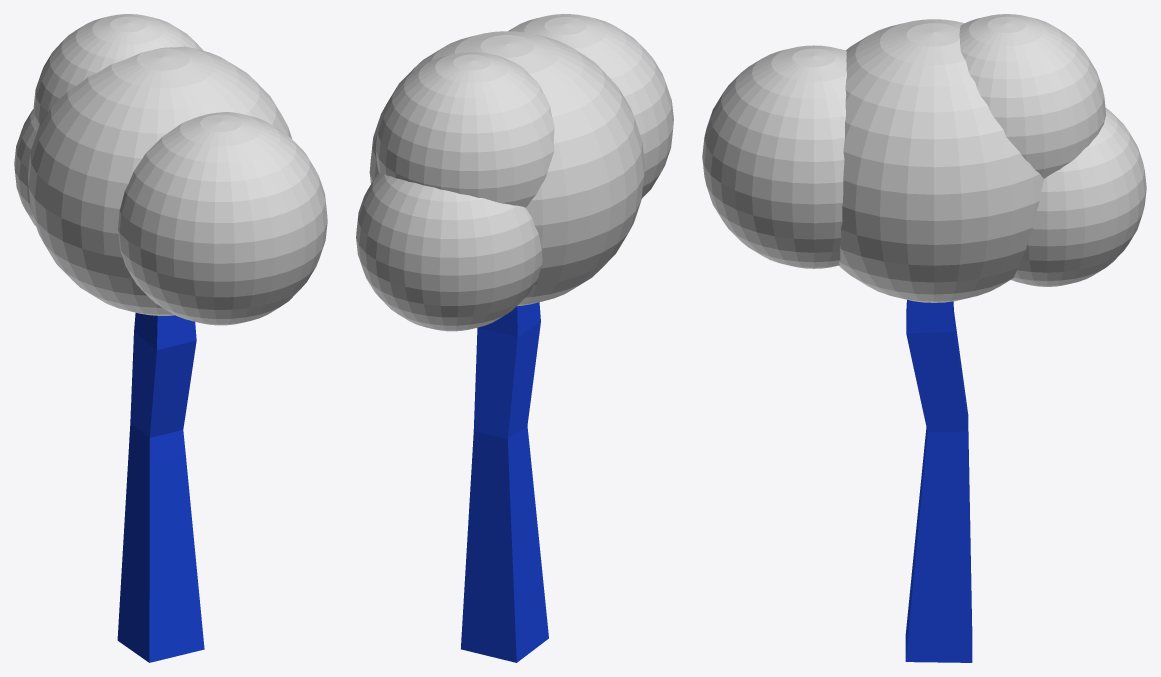
The model's file is CloudTree1.fbx.
The picture shows the model from 3 angles, left to right: view 1: azimuth 30°, elevation 25°; view 2: azimuth 150°, elevation 25°; view 3: azimuth 270°, elevation 25°; orthographic projection. The views are drawn at different scales.
Visible parts, largest first — view 1: Cube.002; view 2: Cube.002; view 3: Cube.002.
Part boxes in pixels (box(x1,y1,x2,y2)): Cube.002: box(14, 14, 327, 662); Cube.002: box(356, 14, 673, 662); Cube.002: box(702, 14, 1146, 662).
Bounding box in the file's own units: 3.2 × 7.78 × 5.01.
